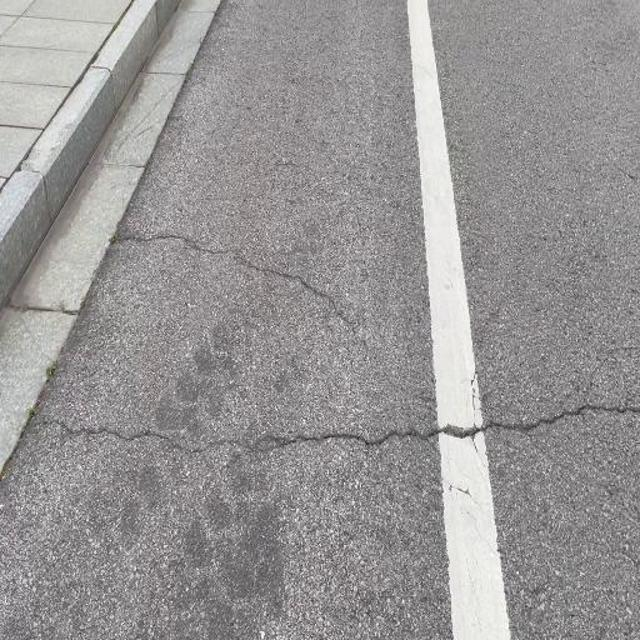Melintang: (20, 393, 640, 468), (110, 222, 388, 365)
